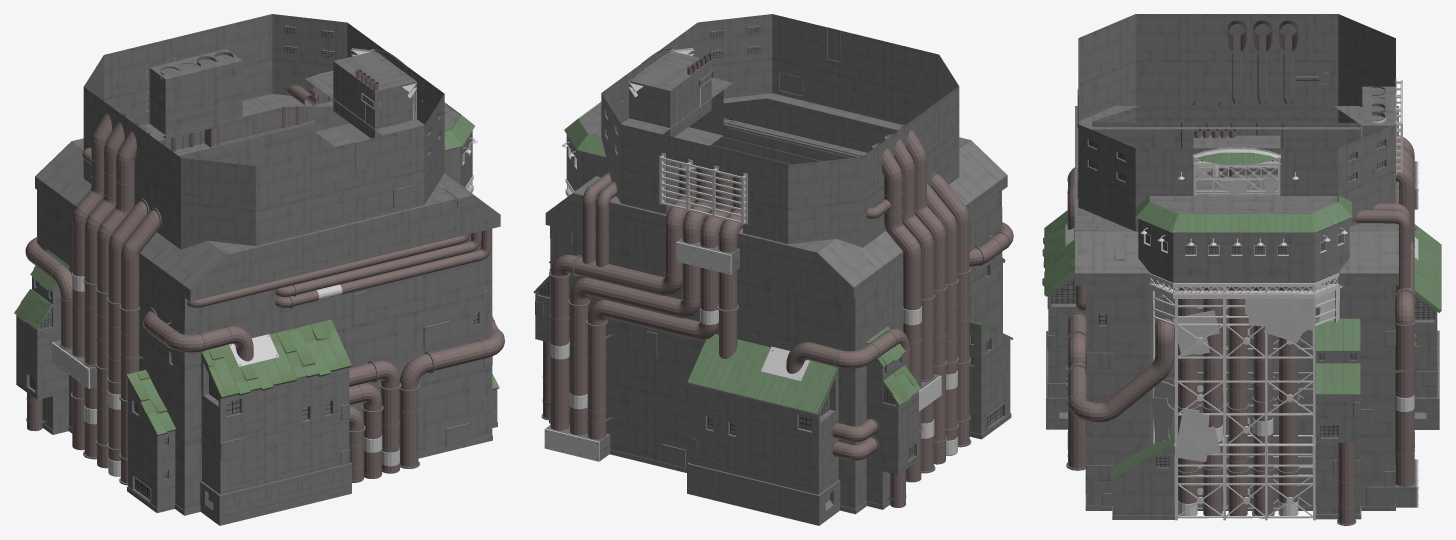
File: MainTower_Aa.fbx
The picture shows the model from 3 angles, left to right: view 1: azimuth 30°, elevation 25°; view 2: azimuth 150°, elevation 25°; view 3: azimuth 270°, elevation 25°; orthographic projection. The views are drawn at different scales.
Parts seen in each view (by area): view 1: SM_ENV_AMVLLG02_AreaA_MainTower_Aa.mo; view 2: SM_ENV_AMVLLG02_AreaA_MainTower_Aa.mo; view 3: SM_ENV_AMVLLG02_AreaA_MainTower_Aa.mo.
Boxes of the visible parts, bbox=[...] form: SM_ENV_AMVLLG02_AreaA_MainTower_Aa.mo: bbox=[14, 14, 504, 525]; SM_ENV_AMVLLG02_AreaA_MainTower_Aa.mo: bbox=[533, 14, 1013, 525]; SM_ENV_AMVLLG02_AreaA_MainTower_Aa.mo: bbox=[1042, 14, 1441, 525].
Size of the model in its own units: 5241 by 4507 by 4624.
